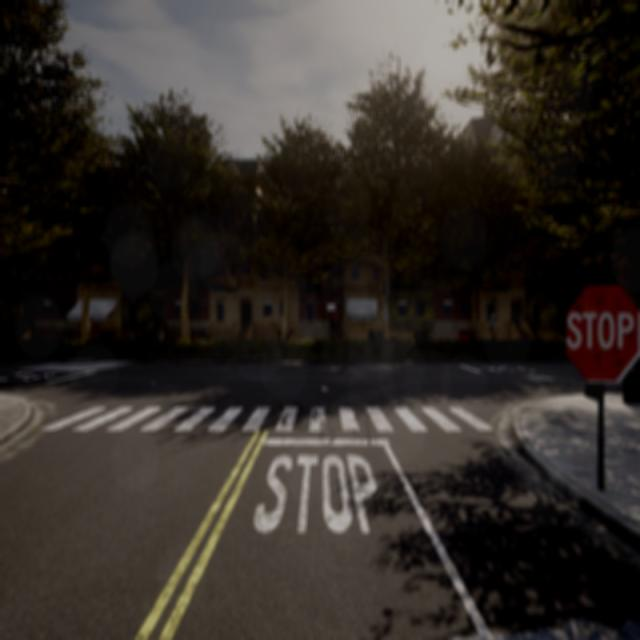stop sign: (561, 278, 639, 388), (565, 307, 639, 353)
